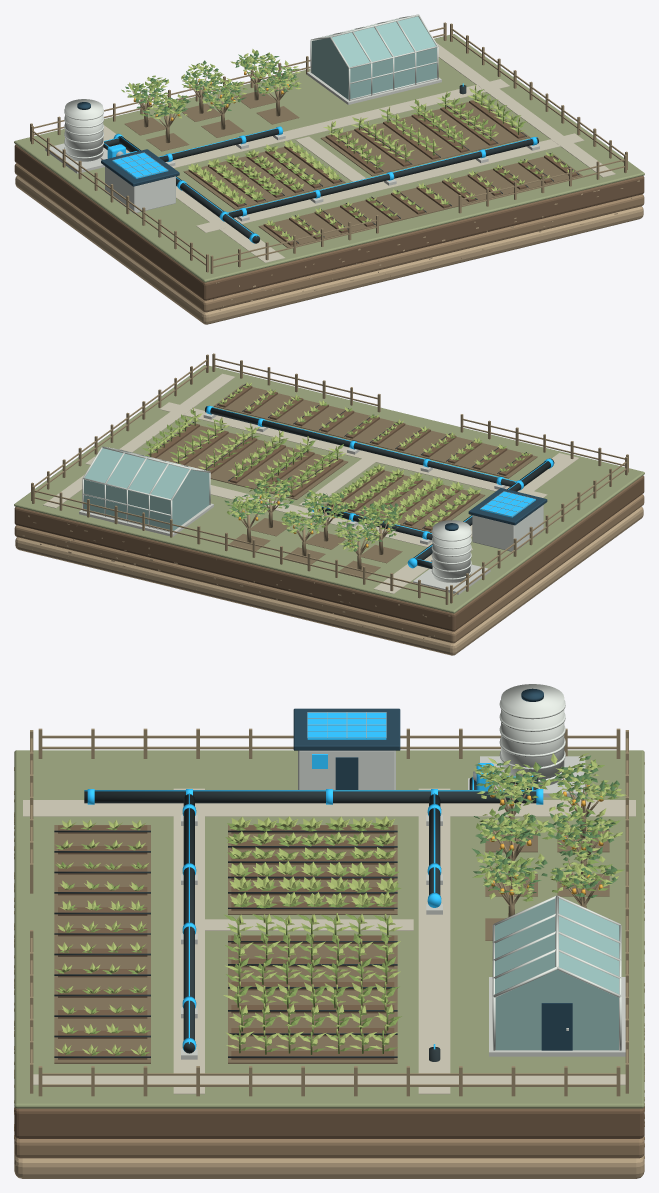
File: masar-farm.glb
The picture shows the model from 3 angles, top to bottom: view 1: azimuth 30°, elevation 25°; view 2: azimuth 150°, elevation 25°; view 3: azimuth 270°, elevation 25°; orthographic projection. The views are drawn at different scales.
Visible parts, largest first — view 1: Thin turf cover, TerrainSurface_bed, Topsoil, TerrainSurface_path, Deep sandstone, Clay layer, Plants_lightgreen, Infrastructure_glass, Infrastructure_wood, TerrainSurface_earth, Plants_green, SurfacePipes_pipe (+9 smaller); view 2: Thin turf cover, TerrainSurface_bed, Topsoil, Deep sandstone, Infrastructure_wood, TerrainSurface_path, Clay layer, Plants_lightgreen, Infrastructure_glass, TerrainSurface_earth, Plants_green, Infrastructure_white (+9 smaller); view 3: Thin turf cover, TerrainSurface_bed, TerrainSurface_path, Plants_lightgreen, Topsoil, TerrainSurface_earth, SurfacePipes_pipe, Infrastructure_glass, Deep sandstone, Plants_green, Clay layer, Infrastructure_wood (+11 smaller).
Boxes of the visible parts, left/top/right/bottom form: Thin turf cover: left=14, top=34, right=644, bottom=282; TerrainSurface_bed: left=124, top=91, right=582, bottom=247; Topsoil: left=14, top=144, right=644, bottom=300; TerrainSurface_path: left=103, top=43, right=615, bottom=262; Deep sandstone: left=15, top=175, right=643, bottom=324; Clay layer: left=14, top=163, right=644, bottom=312; Plants_lightgreen: left=126, top=49, right=573, bottom=240; Infrastructure_glass: left=311, top=16, right=436, bottom=99; Infrastructure_wood: left=30, top=22, right=627, bottom=273; TerrainSurface_earth: left=188, top=100, right=577, bottom=245; Plants_green: left=121, top=50, right=573, bottom=239; SurfacePipes_pipe: left=103, top=100, right=579, bottom=243; Thin turf cover: left=14, top=365, right=644, bottom=613; TerrainSurface_bed: left=146, top=384, right=537, bottom=578; Topsoil: left=14, top=475, right=644, bottom=631; Deep sandstone: left=15, top=506, right=643, bottom=655; Infrastructure_wood: left=31, top=353, right=628, bottom=604; TerrainSurface_path: left=43, top=373, right=578, bottom=593; Clay layer: left=14, top=494, right=644, bottom=643; Plants_lightgreen: left=147, top=382, right=531, bottom=550; Infrastructure_glass: left=84, top=448, right=209, bottom=530; TerrainSurface_earth: left=148, top=384, right=532, bottom=530; Plants_green: left=142, top=386, right=527, bottom=551; Infrastructure_white: left=82, top=446, right=471, bottom=582; Thin turf cover: left=14, top=750, right=644, bottom=1108; TerrainSurface_bed: left=54, top=825, right=609, bottom=1063; TerrainSurface_path: left=23, top=788, right=635, bottom=1094; Plants_lightgreen: left=56, top=753, right=626, bottom=1054; Topsoil: left=14, top=1107, right=644, bottom=1138; TerrainSurface_earth: left=58, top=825, right=394, bottom=1059; SurfacePipes_pipe: left=54, top=775, right=538, bottom=1057; Infrastructure_glass: left=495, top=898, right=619, bottom=1050; Deep sandstone: left=14, top=1154, right=644, bottom=1178; Plants_green: left=54, top=757, right=624, bottom=1055; Clay layer: left=14, top=1135, right=644, bottom=1158; Infrastructure_wood: left=30, top=728, right=628, bottom=1096.
Bounding box in the file's own units: 24 × 5.19 × 18.01.
